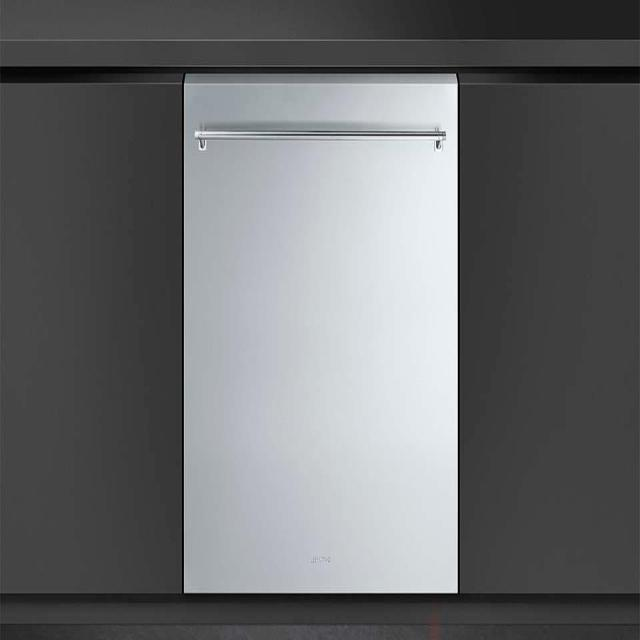dishwasher: (180, 71, 468, 608)
